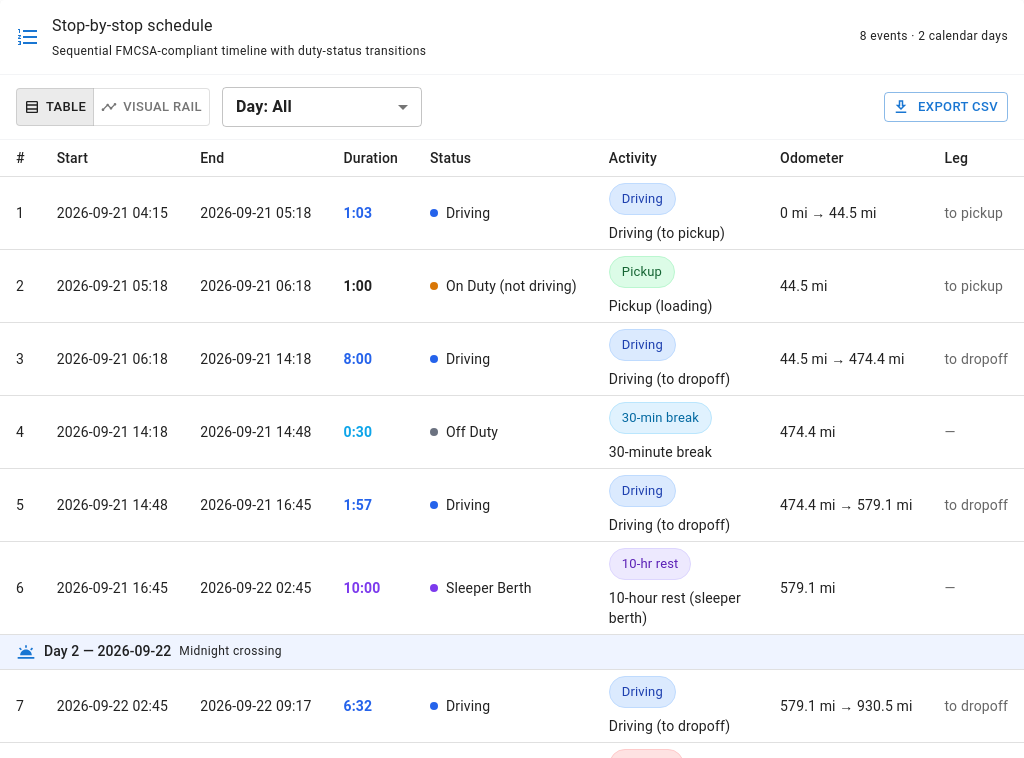
Test: ScheduleTable › switches to the visual rail view
The image size is (1024, 758).
Step 1. Click the button "Visual rail" → (152, 107), box [93, 88, 210, 126]
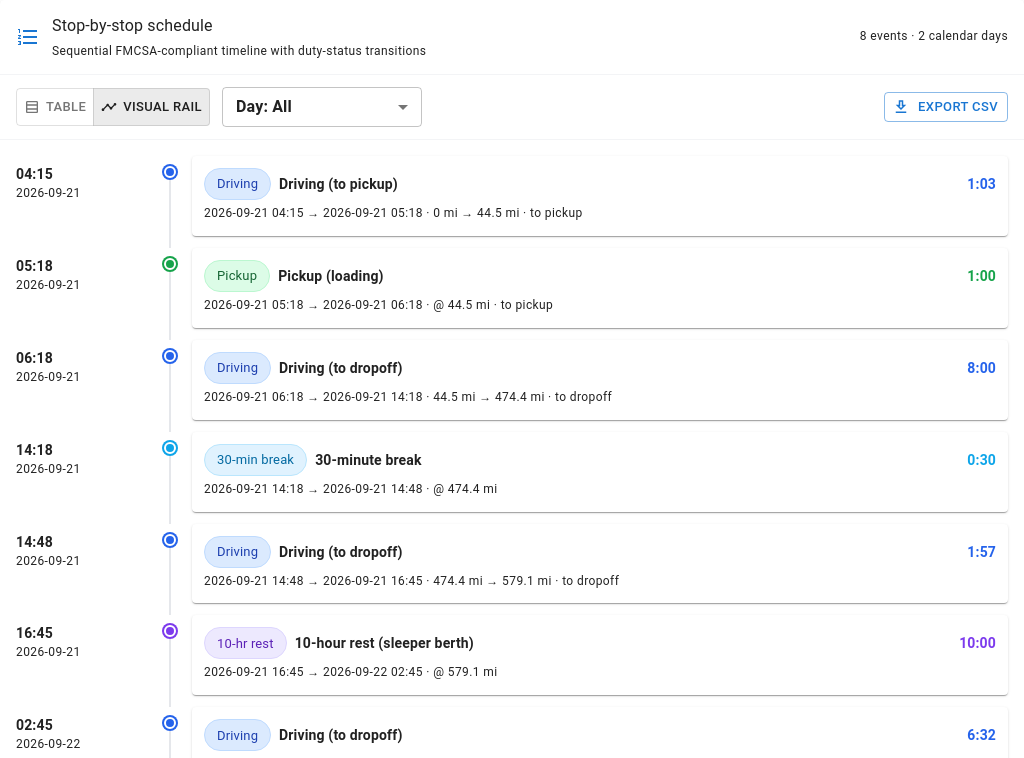
Expected: the number of list items is 8
